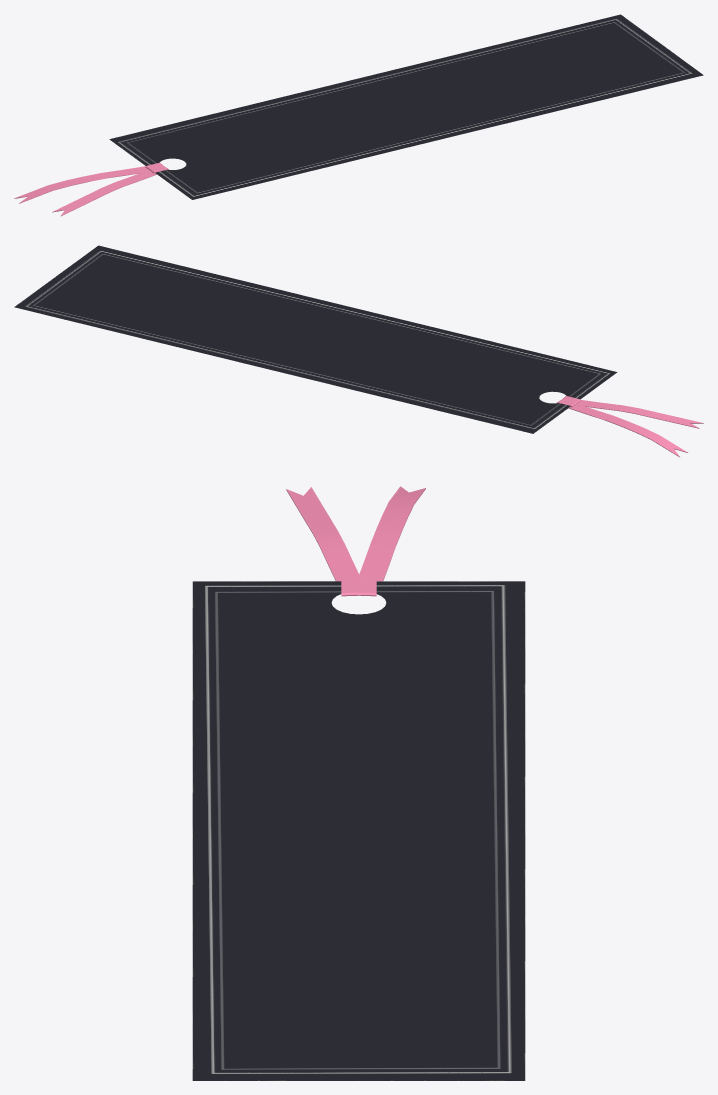
The model's file is Bookmark On.fbx.
3 renders of one model, top to bottom at view 1: azimuth 30°, elevation 25°; view 2: azimuth 150°, elevation 25°; view 3: azimuth 270°, elevation 25°, orthographic. The views are drawn at different scales.
Visible parts, largest first — view 1: pPlane2, pCube2, pCube3; view 2: pPlane2, pCube2, pCube3; view 3: pPlane2, pCube2, pCube3.
Part boxes in pixels (x1,y1,x2,y2): pPlane2: [109, 14, 703, 199]; pCube2: [14, 166, 148, 203]; pCube3: [52, 170, 156, 216]; pPlane2: [14, 245, 617, 433]; pCube2: [568, 405, 687, 457]; pCube3: [575, 400, 703, 428]; pPlane2: [192, 581, 525, 1080]; pCube2: [359, 486, 425, 581]; pCube3: [286, 487, 361, 581].
Size of the model in its own units: 19.71 by 0.3789 by 4.48.
